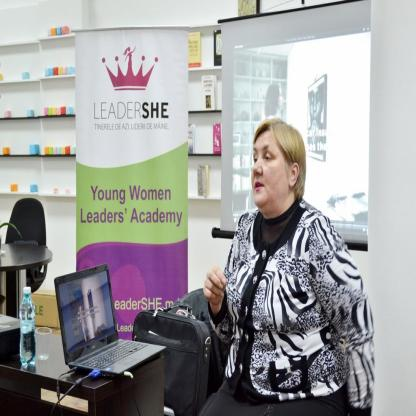board: (54, 263, 166, 375), (20, 287, 36, 366)
